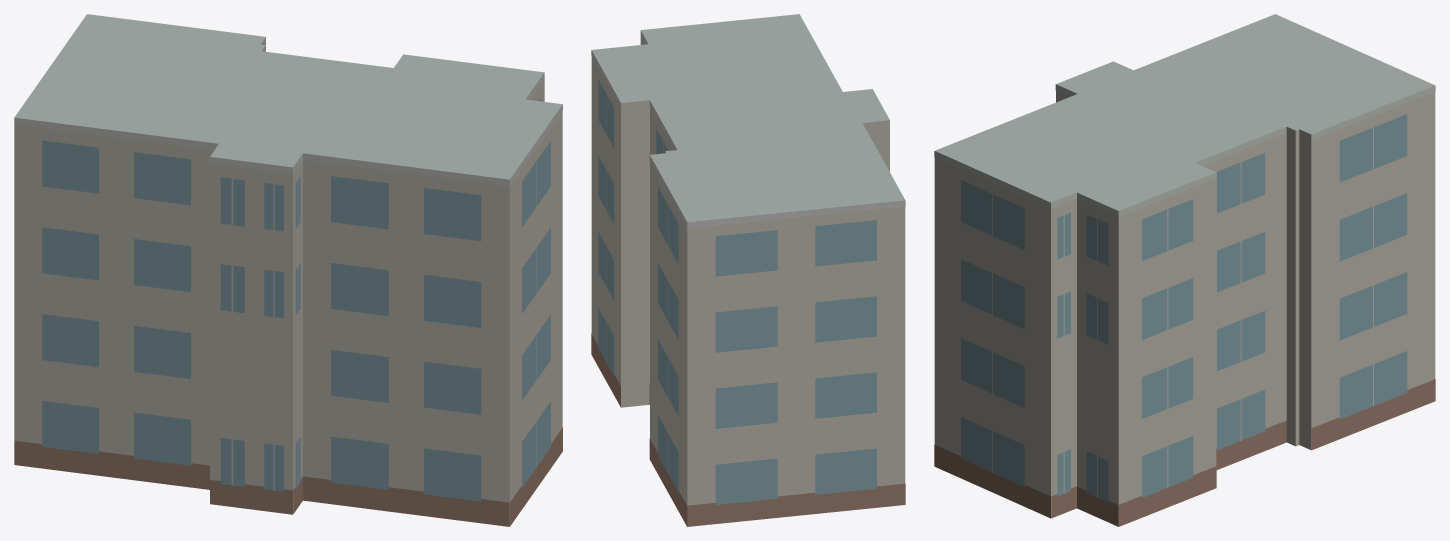
The model's file is survey-upis-32563202.glb.
3 views of the same model, side by side, from view 1: azimuth 30°, elevation 25°; view 2: azimuth 150°, elevation 25°; view 3: azimuth 270°, elevation 25° (orthographic). The views are drawn at different scales.
Visible parts, largest first — view 1: survey-upis-32563202.tmp; view 2: survey-upis-32563202.tmp; view 3: survey-upis-32563202.tmp.
Boxes of the visible parts, x1,y1,x2,y2 form: survey-upis-32563202.tmp: [14, 14, 562, 526]; survey-upis-32563202.tmp: [591, 14, 905, 526]; survey-upis-32563202.tmp: [934, 14, 1435, 526].
Size of the model in its own units: 16.2 by 12.1 by 17.4.
